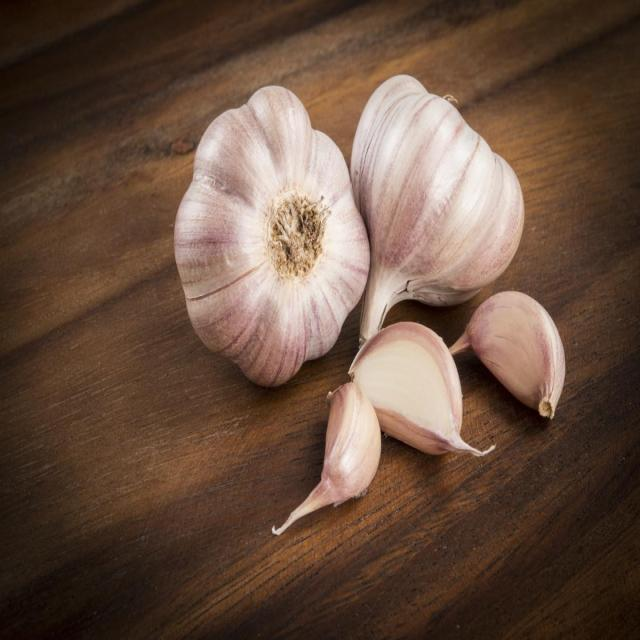Garlic: (156, 80, 381, 402), (296, 78, 537, 338), (433, 282, 576, 428), (337, 320, 467, 480), (277, 372, 380, 538)
